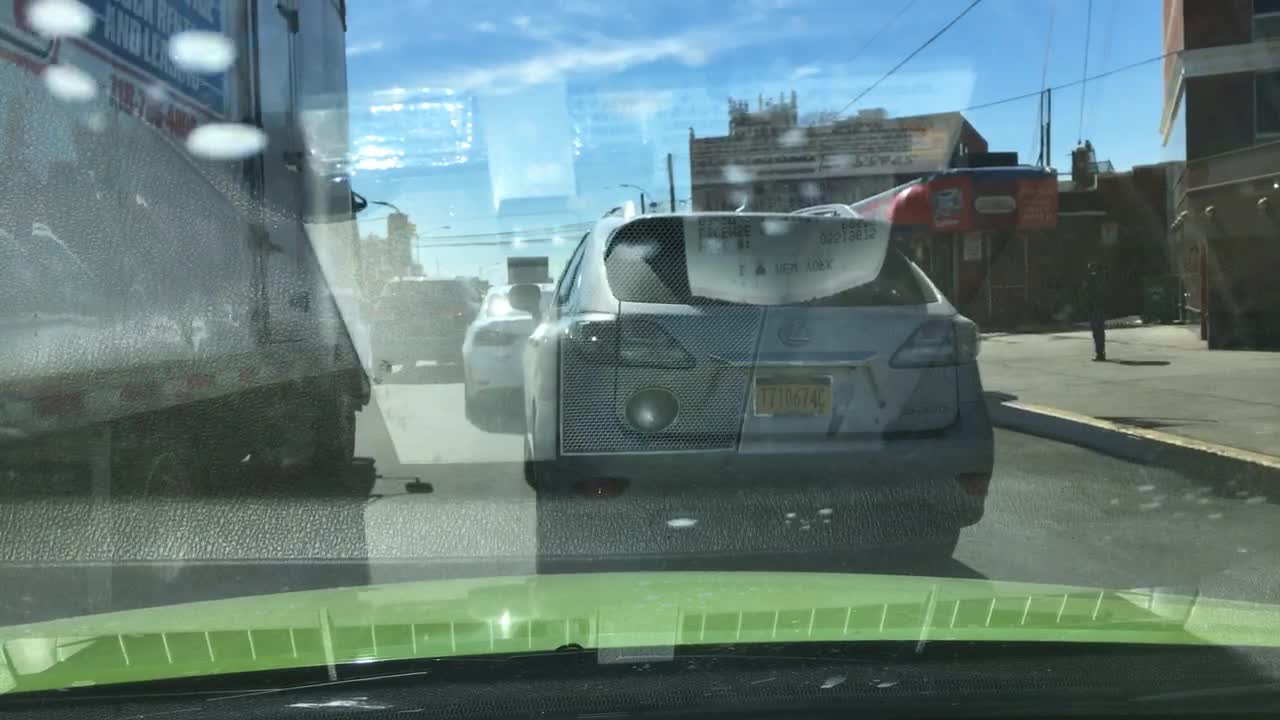car: (518, 197, 995, 537), (367, 272, 489, 380), (463, 280, 551, 424)
traffic sign: (509, 254, 550, 284)
truck: (2, 0, 374, 613)
